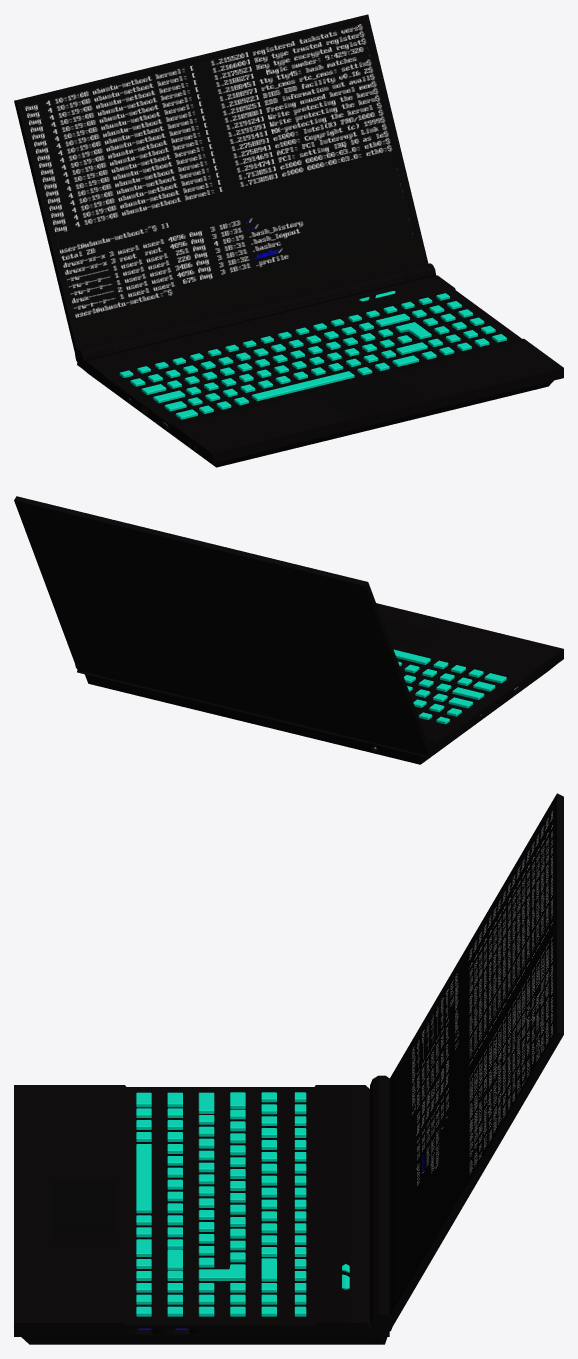
Rendered from laptop_leather.fbx.
3 views of the same model, one above another, from view 1: azimuth 30°, elevation 25°; view 2: azimuth 150°, elevation 25°; view 3: azimuth 270°, elevation 25° (orthographic). The views are drawn at different scales.
Parts seen in each view (by area): view 1: pCube134, pCube131, pCube4, pCylinder1, pCube133, pCube135, pCube117; view 2: pCube4, pCube131, pCube133, pCylinder1; view 3: pCube131, pCube134, pCube4, pCylinder1, pCube135, pCube133, pCube117, pCylinder3.
Part boxes in pixels (box(x1,y1,x2,y2)): pCube134: box(24, 23, 413, 319); pCube131: box(77, 275, 563, 463); pCube4: box(14, 14, 428, 363); pCylinder1: box(107, 270, 406, 354); pCube133: box(84, 370, 553, 467); pCube135: box(318, 377, 408, 409); pCube117: box(251, 371, 354, 401); pCube4: box(14, 496, 429, 756); pCube131: box(77, 603, 563, 757); pCube133: box(85, 665, 555, 764); pCylinder1: box(105, 673, 398, 746); pCube131: box(14, 1085, 389, 1336); pCube134: box(411, 810, 552, 1274); pCube4: box(386, 793, 563, 1334); pCylinder1: box(370, 1095, 389, 1303); pCube135: box(51, 1181, 112, 1227); pCube133: box(21, 1337, 387, 1344); pCube117: box(136, 1144, 151, 1213); pCylinder3: box(370, 1294, 393, 1334).
Size of the model in its own units: 3.61 by 2.27 by 3.51.
Materials: 6 (1 with a texture image).
